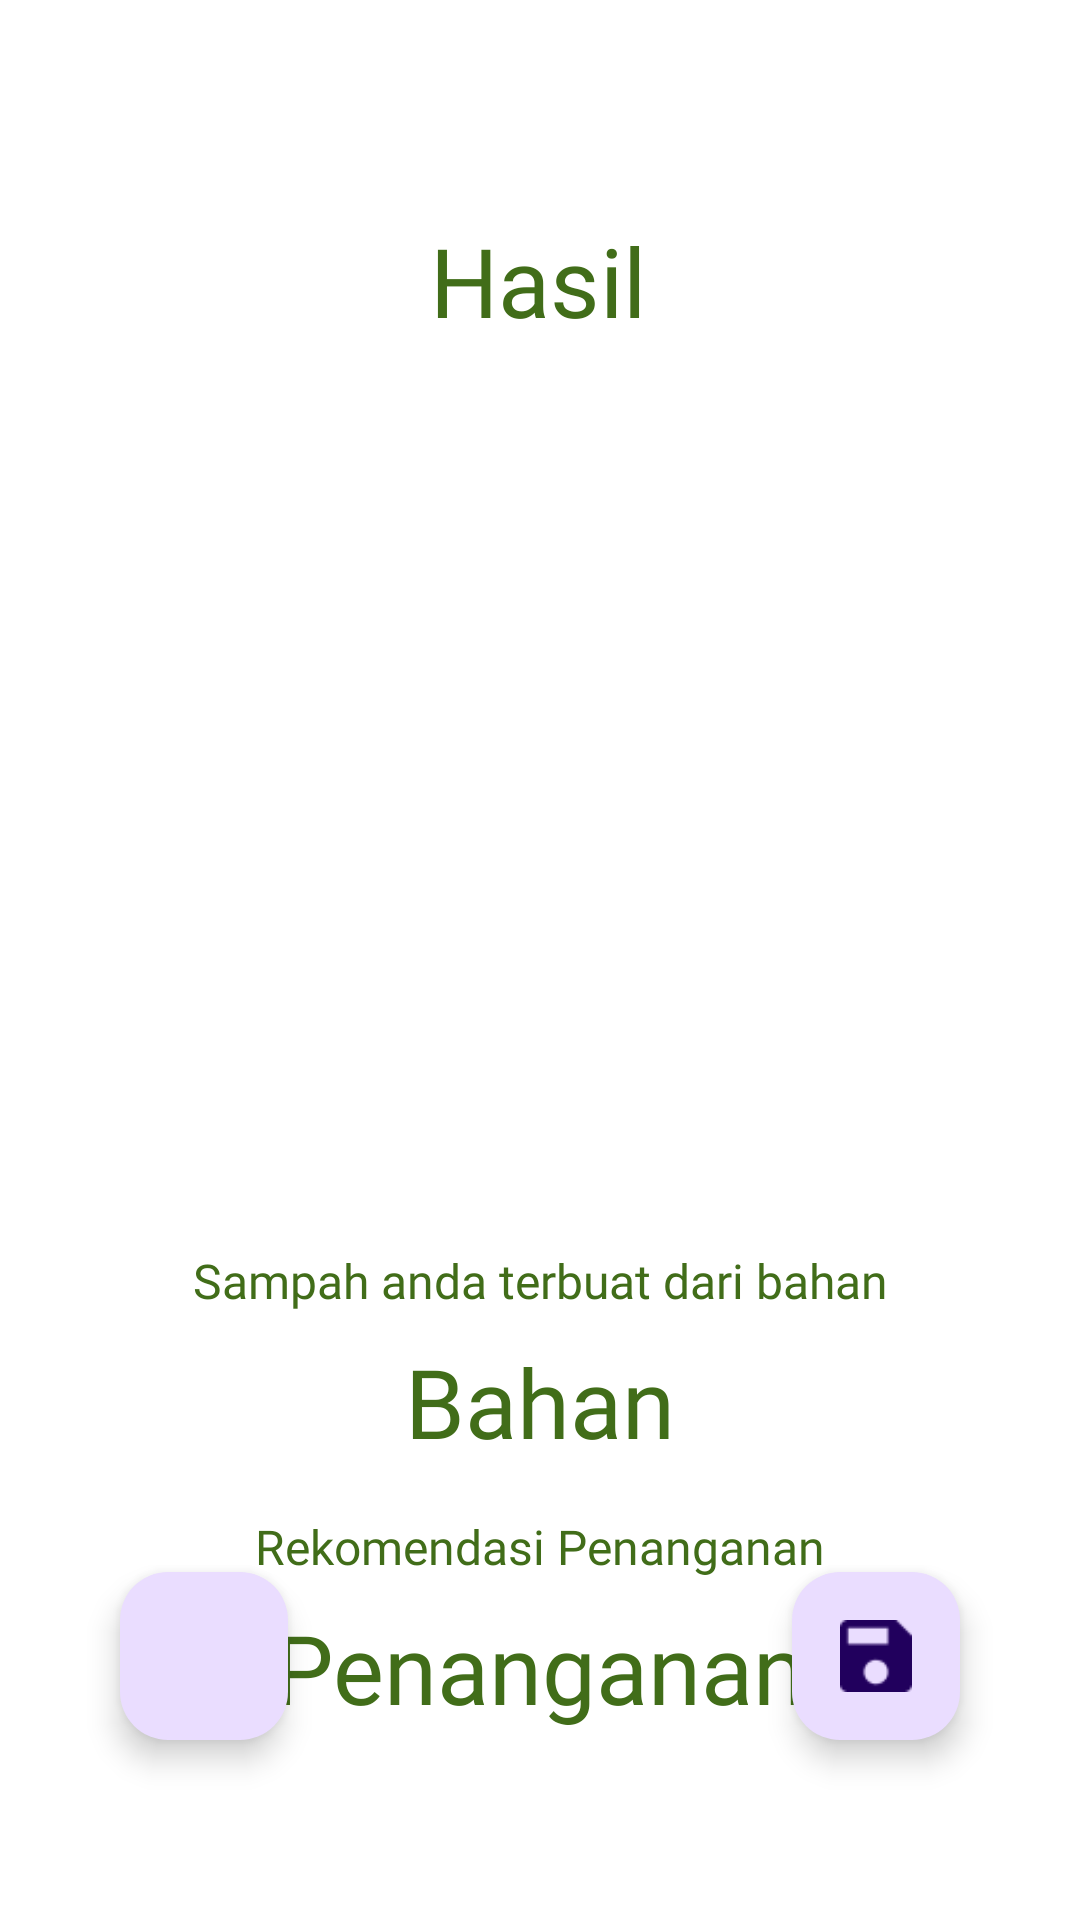

Point at icon controls on the screen. Image size 1080px x 1920px, points as (x=x, y=y).
save: (x=876, y=1656)
